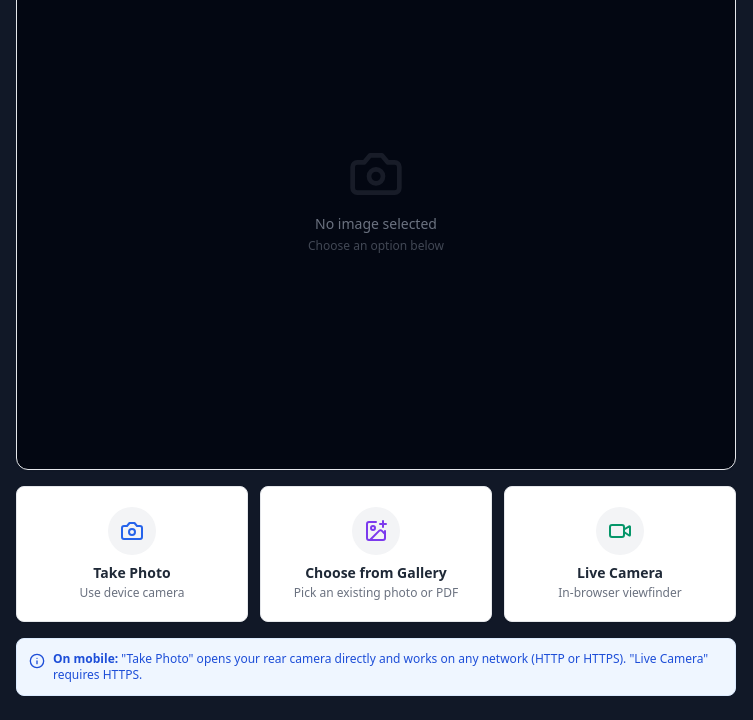
Test: CameraCapturePage › shows HTTPS error when SecurityError occurs
(page scrolled)
Click the text "Live Camera". click: (620, 572)
box: [577,563,663,582]
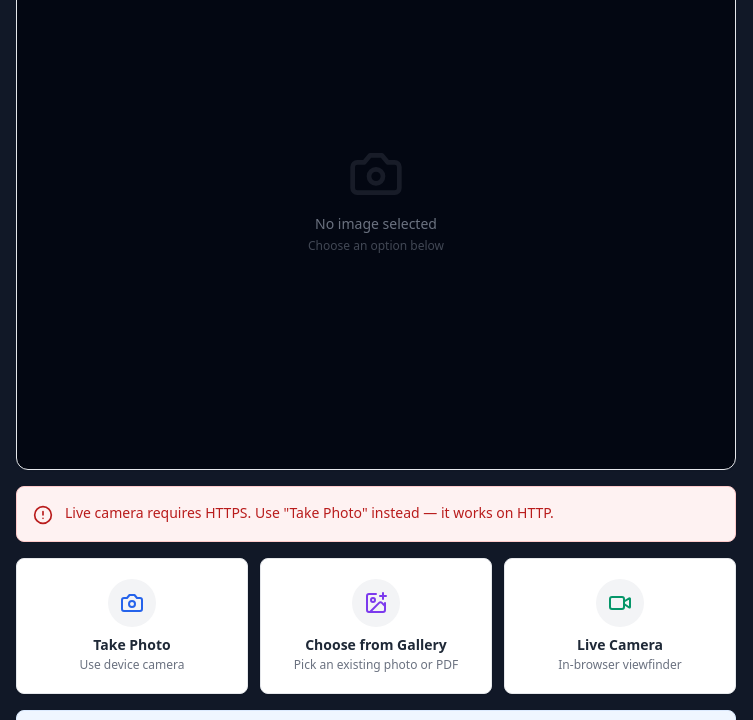
Now the text "requires HTTPS" is shown, box [65,503,554,522]
